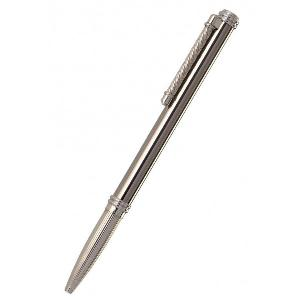pen: (64, 1, 241, 297)
